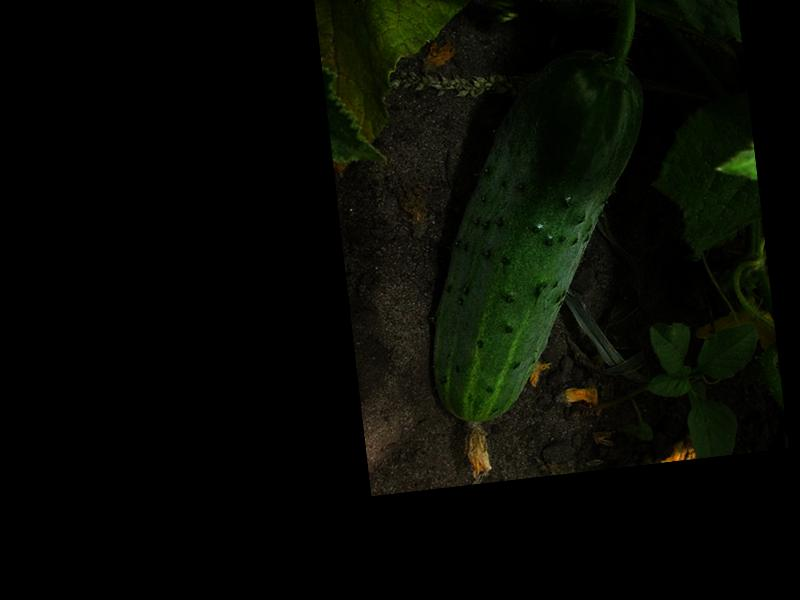Cucumber: (396, 44, 684, 482)
